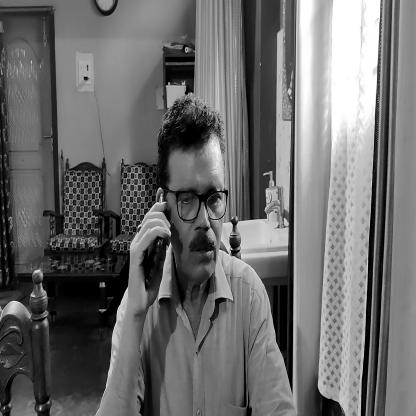Normal: (154, 90, 228, 300)
